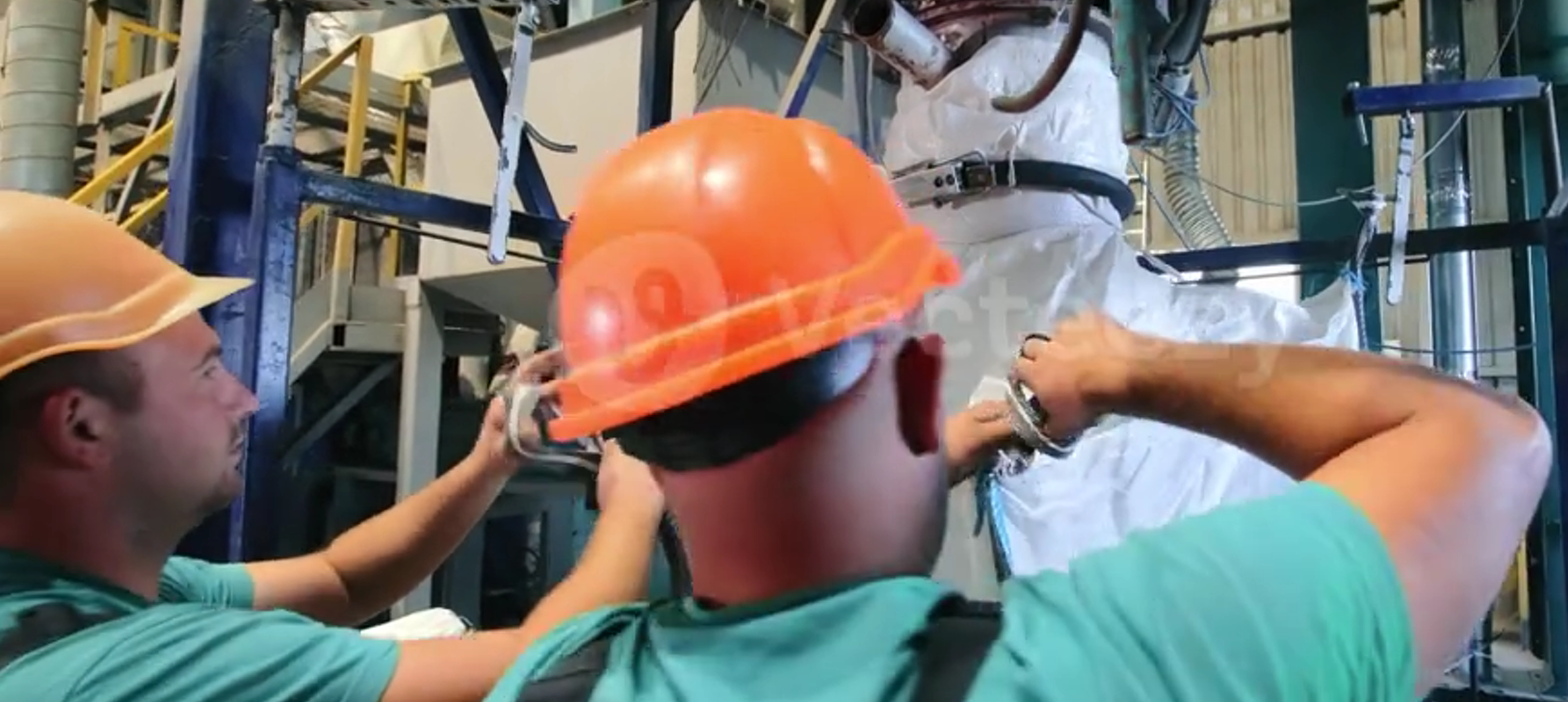safety_helmet: (543, 105, 961, 445)
